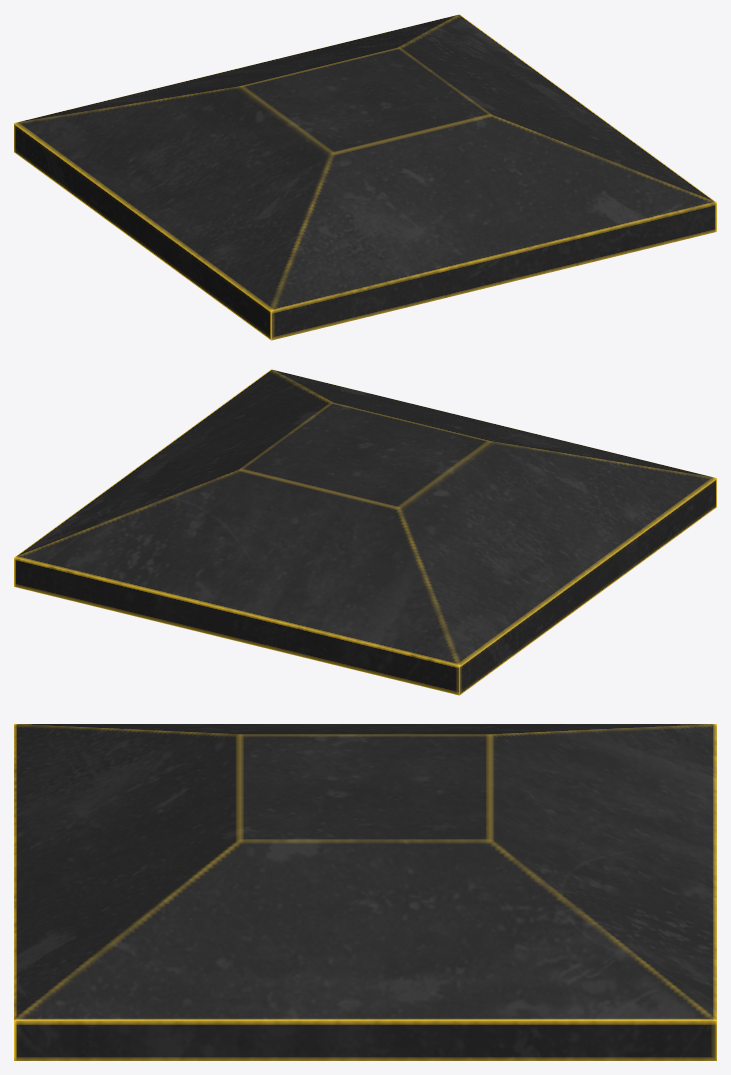
The model's file is cyberpunk_japanese_roof.glb.
3 views of the same model, one above another, from view 1: azimuth 30°, elevation 25°; view 2: azimuth 150°, elevation 25°; view 3: azimuth 270°, elevation 25° (orthographic). The views are drawn at different scales.
Parts seen in each view (by area): view 1: Roof_Low; view 2: Roof_Low; view 3: Roof_Low.
Part boxes in pixels (x1,y1,x2,y2): Roof_Low: [14, 14, 716, 340]; Roof_Low: [14, 369, 716, 695]; Roof_Low: [14, 724, 716, 1060].
Bounding box in the file's own units: 539 × 106 × 539.
Materials: 1 (1 with a texture image).
